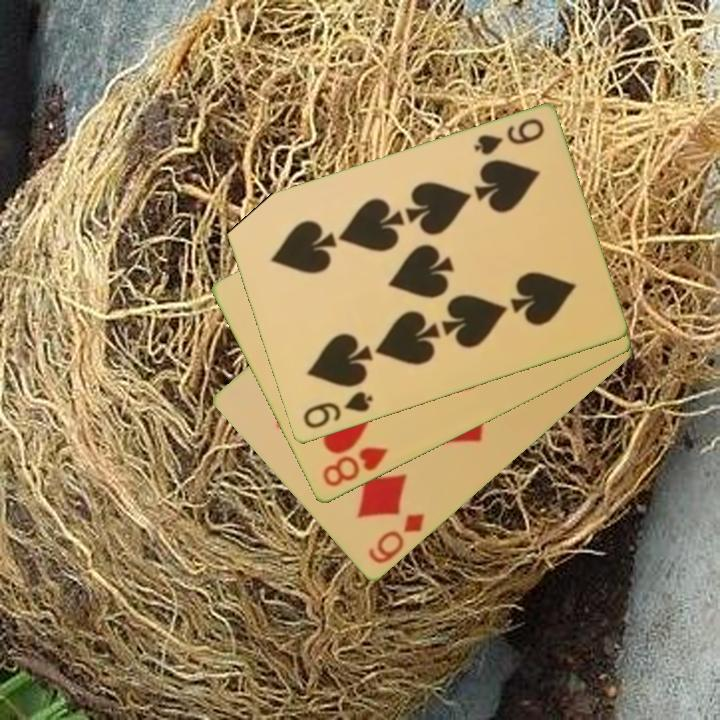6d: (364, 510, 428, 568)
8h: (318, 443, 391, 491)
9s: (299, 388, 376, 432), (470, 115, 547, 159)
